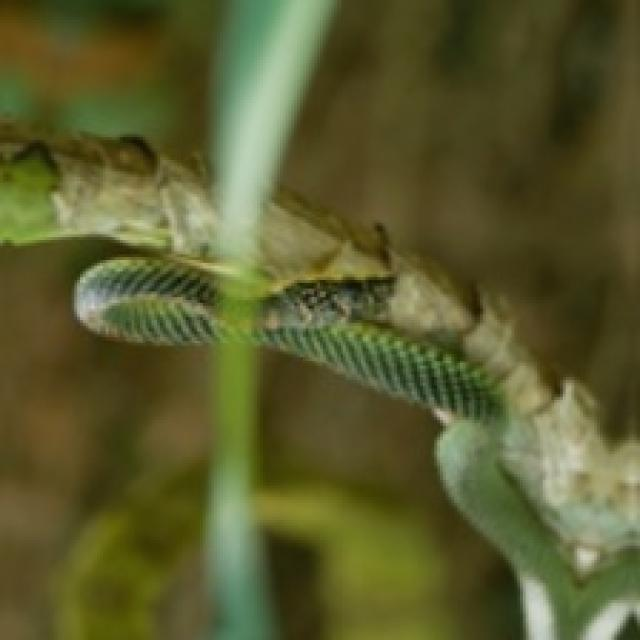paradise tree snake: (260, 275, 640, 639), (75, 259, 220, 343)
